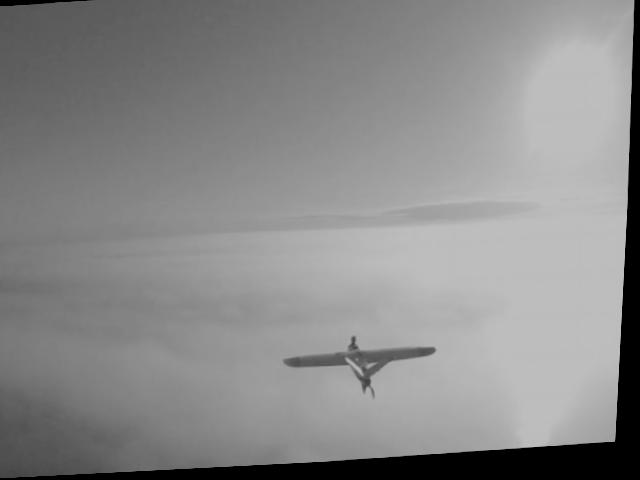hedef: (281, 329, 447, 411)
